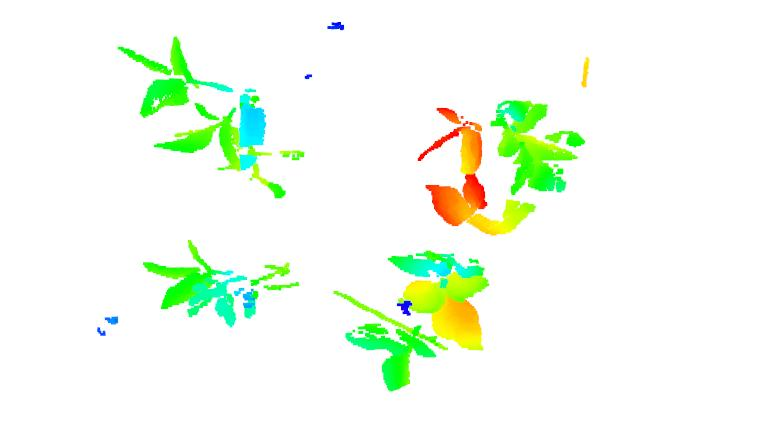mungbean: (109, 35, 303, 197), (417, 97, 591, 234), (347, 245, 493, 396), (143, 234, 298, 327)
